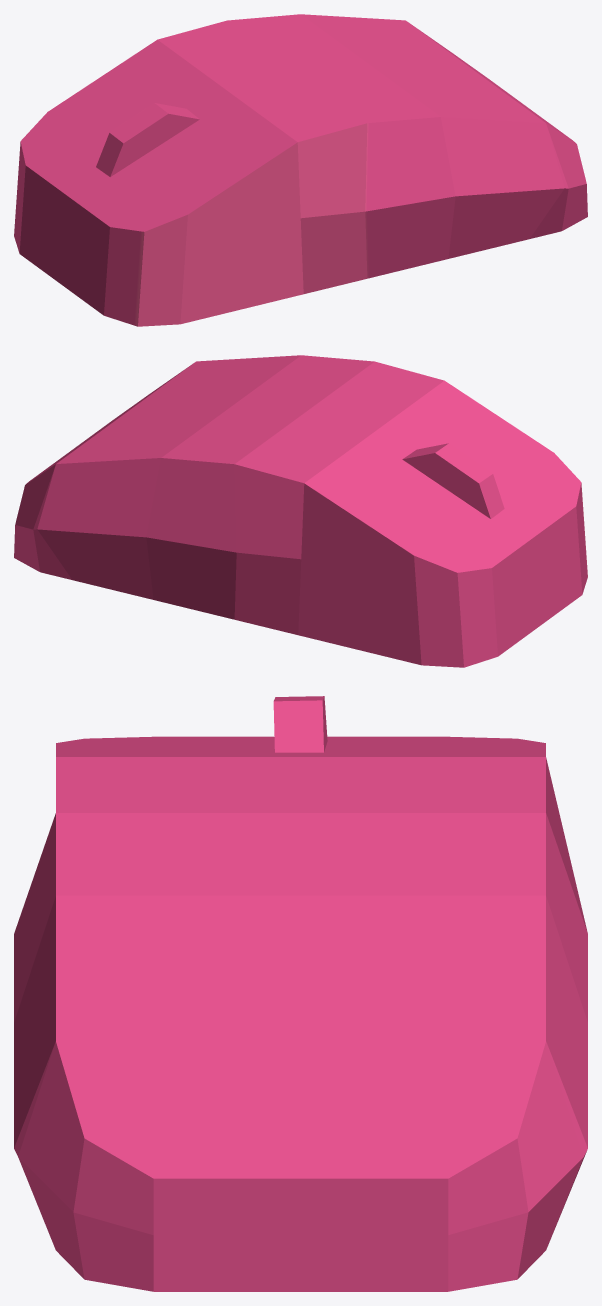
Rendered from Raton.glb.
3 renders of one model, top to bottom at view 1: azimuth 30°, elevation 25°; view 2: azimuth 150°, elevation 25°; view 3: azimuth 270°, elevation 25°, orthographic. The views are drawn at different scales.
Parts seen in each view (by area): view 1: Cube.001; view 2: Cube.001; view 3: Cube.001.
Part boxes in pixels (x1,y1,x2,y2): Cube.001: (14,14,587,326); Cube.001: (14,355,587,667); Cube.001: (14,696,587,1291).
Bounding box in the file's own units: 1.48 × 0.4598 × 0.8801.
1 material, 1 textured.
